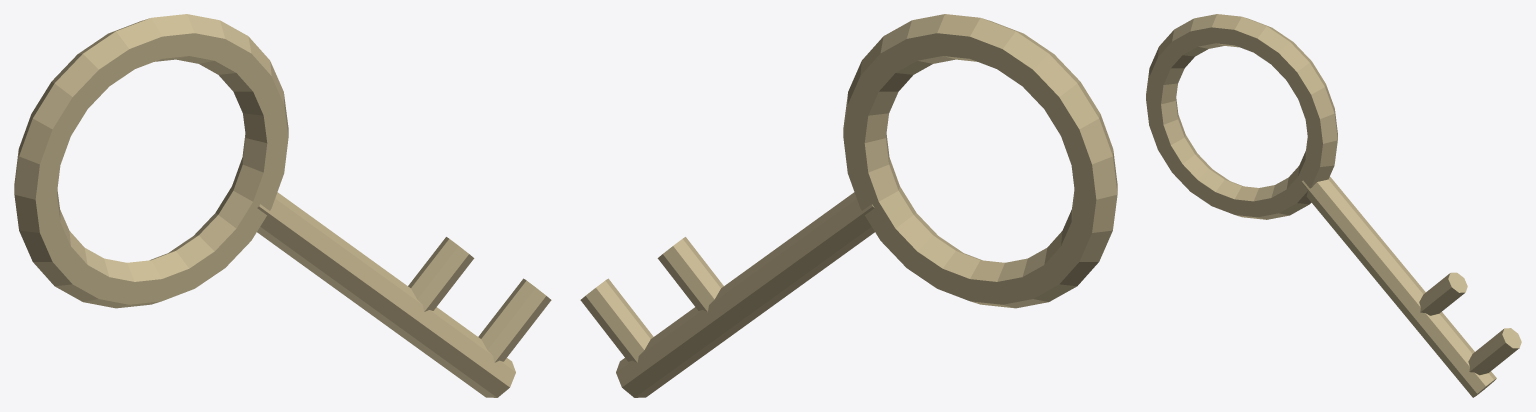
The model's file is adjective-key.glb.
3 views of the same model, side by side, from view 1: azimuth 30°, elevation 25°; view 2: azimuth 150°, elevation 25°; view 3: azimuth 330°, elevation 25° (orthographic). The views are drawn at different scales.
Parts seen in each view (by area): view 1: Key bow.001; view 2: Key bow.001; view 3: Key bow.001.
Boxes of the visible parts, x1=… form: Key bow.001: x1=14, y1=14, x2=551, y2=397; Key bow.001: x1=580, y1=14, x2=1117, y2=397; Key bow.001: x1=1146, y1=14, x2=1521, y2=397.
Bounding box in the file's own units: 0.0277 × 0.0228 × 0.002.
